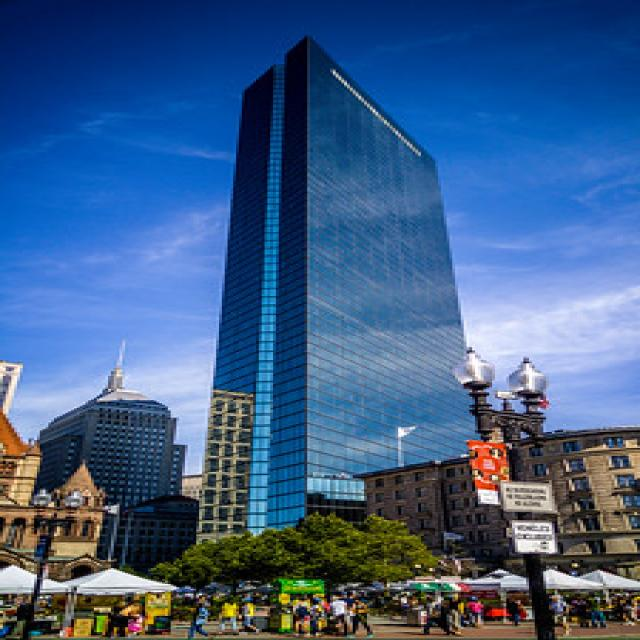Normal_building: (192, 29, 499, 574)
